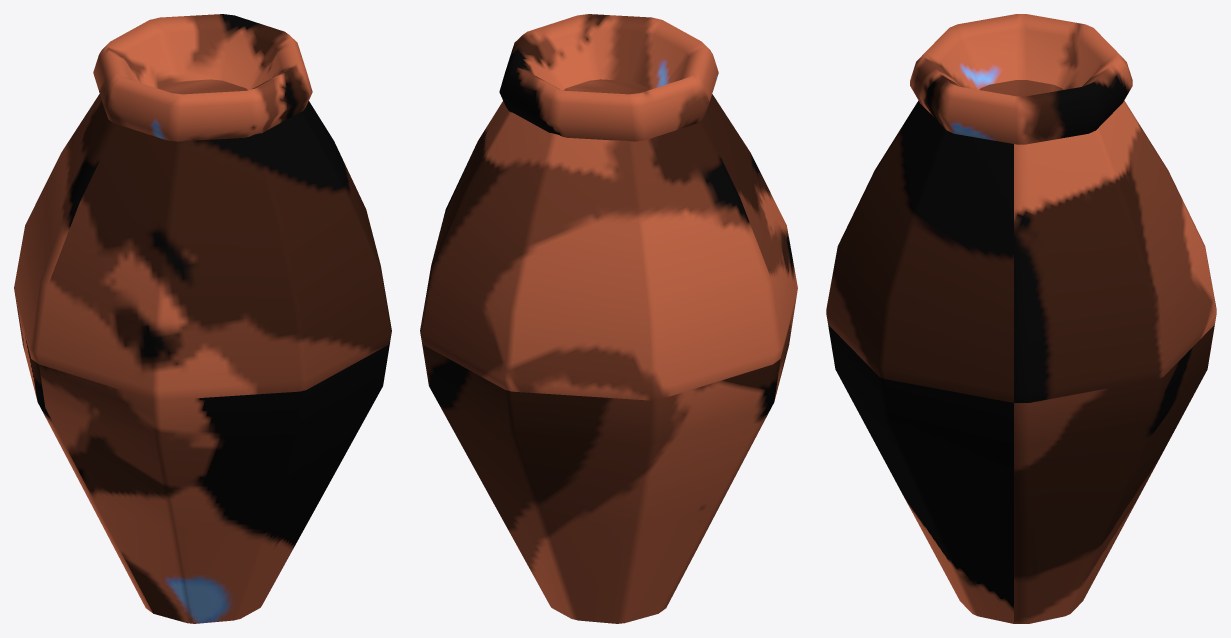
Rendered from Pots2.fbx.
3 renders of one model, left to right at view 1: azimuth 30°, elevation 25°; view 2: azimuth 150°, elevation 25°; view 3: azimuth 270°, elevation 25°, orthographic.
Visible parts, largest first — view 1: polySurface12, polySurface17; view 2: polySurface12, polySurface17; view 3: polySurface12, polySurface17.
Part boxes in pixels (x1,y1,x2,y2): polySurface12: [14, 94, 391, 623]; polySurface17: [93, 14, 312, 141]; polySurface12: [420, 94, 797, 623]; polySurface17: [499, 14, 718, 141]; polySurface12: [826, 100, 1216, 623]; polySurface17: [910, 14, 1132, 144].
Size of the model in its own units: 1.62 by 2.48 by 1.62.
